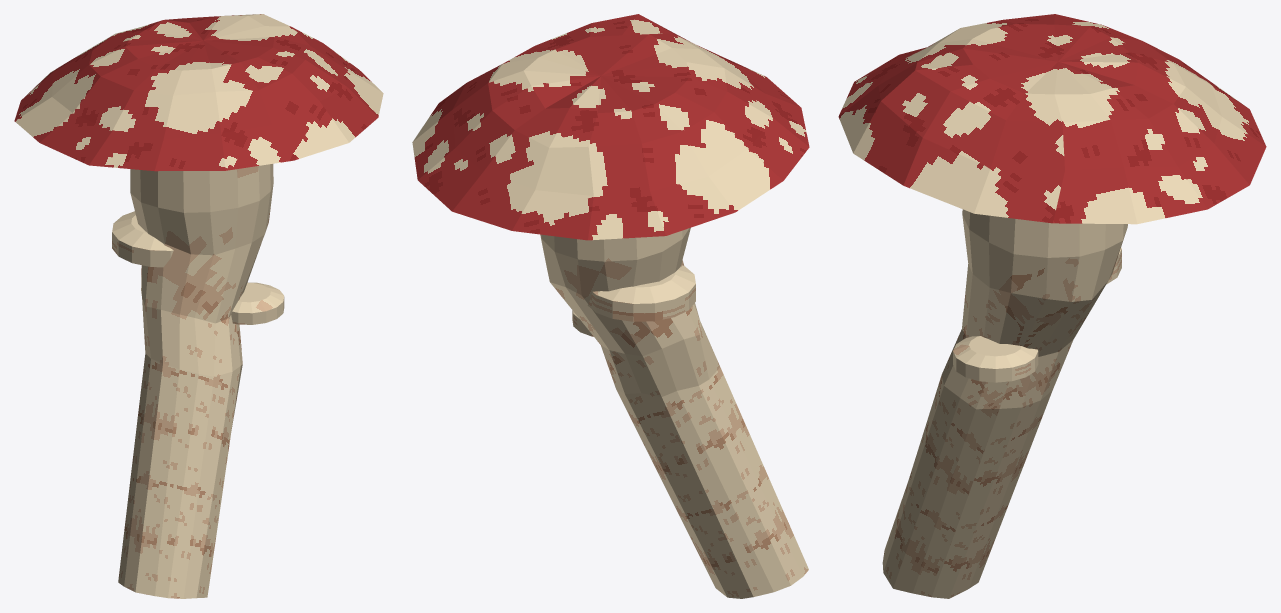
Rendered from mushroom_extension.fbx.
3 renders of one model, left to right at view 1: azimuth 30°, elevation 25°; view 2: azimuth 150°, elevation 25°; view 3: azimuth 270°, elevation 25°, orthographic. The views are drawn at different scales.
Parts seen in each view (by area): view 1: Trunk; view 2: Trunk; view 3: Trunk.
Boxes of the visible parts, x1,y1,x2,y2 form: Trunk: [14, 14, 383, 598]; Trunk: [412, 14, 809, 598]; Trunk: [838, 14, 1266, 598].
Size of the model in its own units: 377 by 565 by 377.
